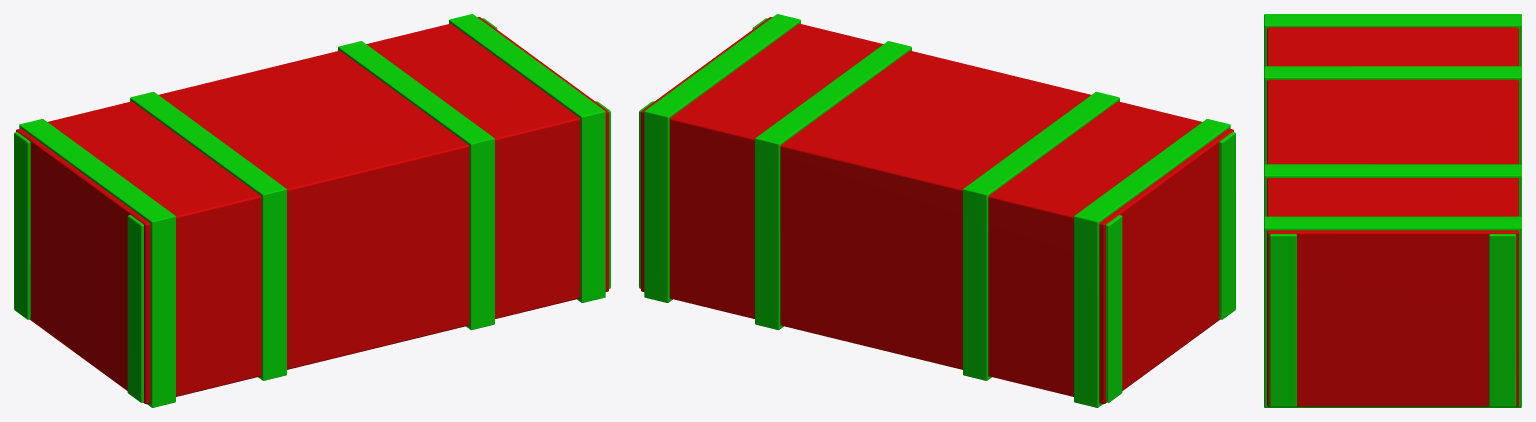
The model's file is prp_crateA.fbx.
3 renders of one model, left to right at view 1: azimuth 30°, elevation 25°; view 2: azimuth 150°, elevation 25°; view 3: azimuth 270°, elevation 25°, orthographic. The views are drawn at different scales.
Visible parts, largest first — view 1: prp_crateA; view 2: prp_crateA; view 3: prp_crateA.
Boxes of the visible parts, left/top/right/bottom form: prp_crateA: left=14, top=14, right=610, bottom=407; prp_crateA: left=639, top=14, right=1235, bottom=407; prp_crateA: left=1264, top=14, right=1521, bottom=407.
Size of the model in its own units: 1.45 by 0.7136 by 0.5509.
